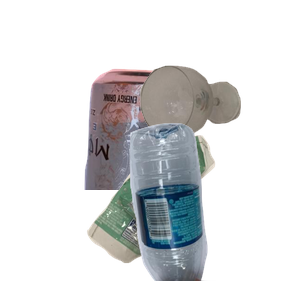glass: (138, 63, 300, 191)
metal: (82, 66, 270, 246)
plastic: (127, 120, 300, 300)
trash: (84, 133, 292, 300)
